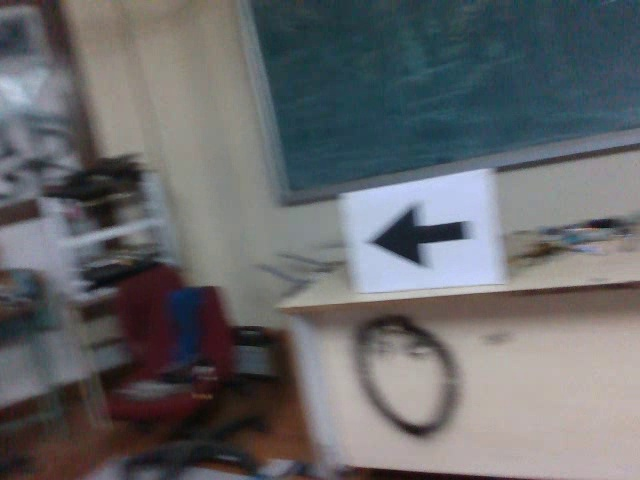Left: (359, 195, 475, 271)
